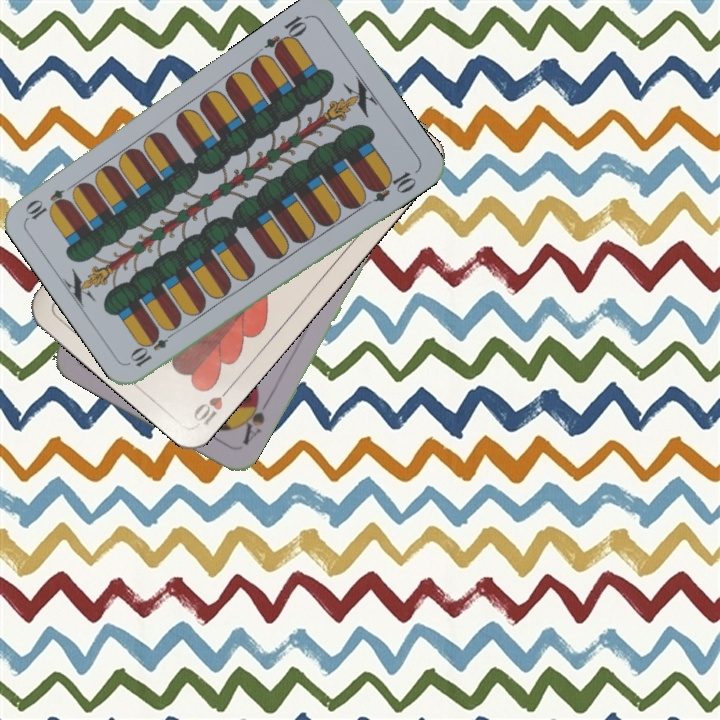E10: (260, 11, 312, 58), (127, 325, 179, 370)
H10: (189, 379, 236, 429)
SA: (235, 392, 271, 448)
